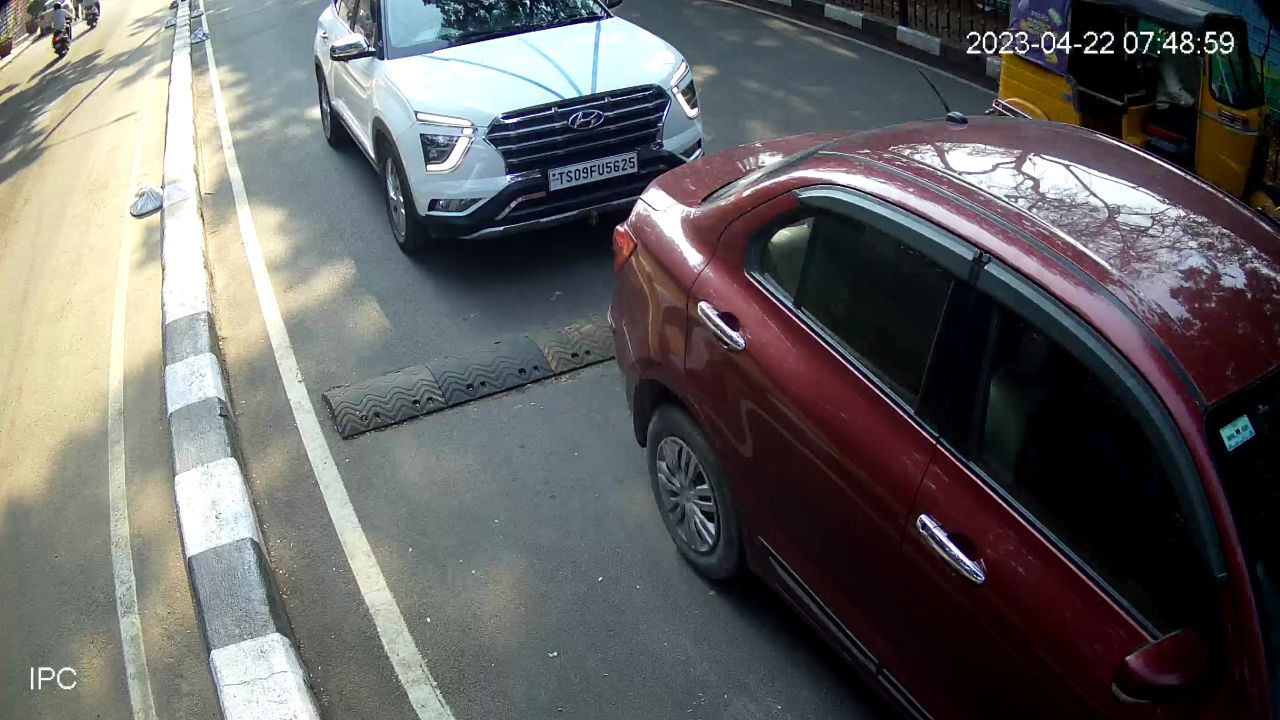license_plate: (542, 149, 646, 195)
